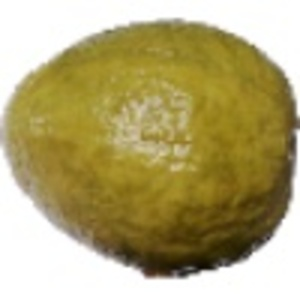goiaba: (5, 11, 295, 282)
